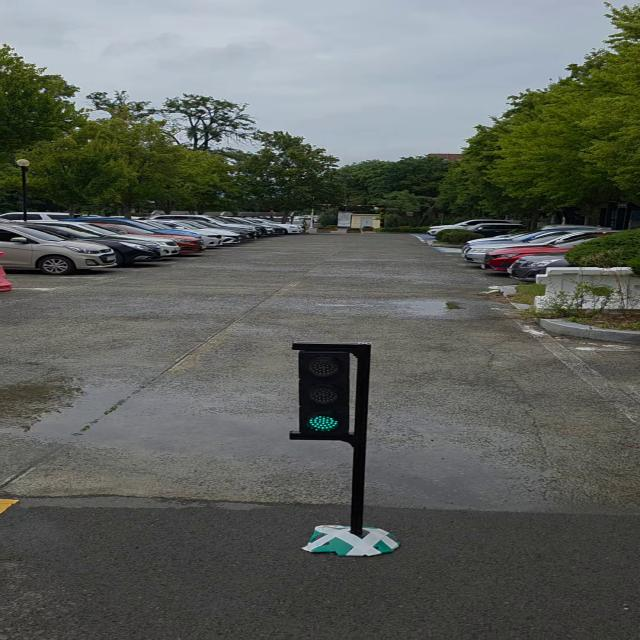green: (301, 347, 364, 442)
